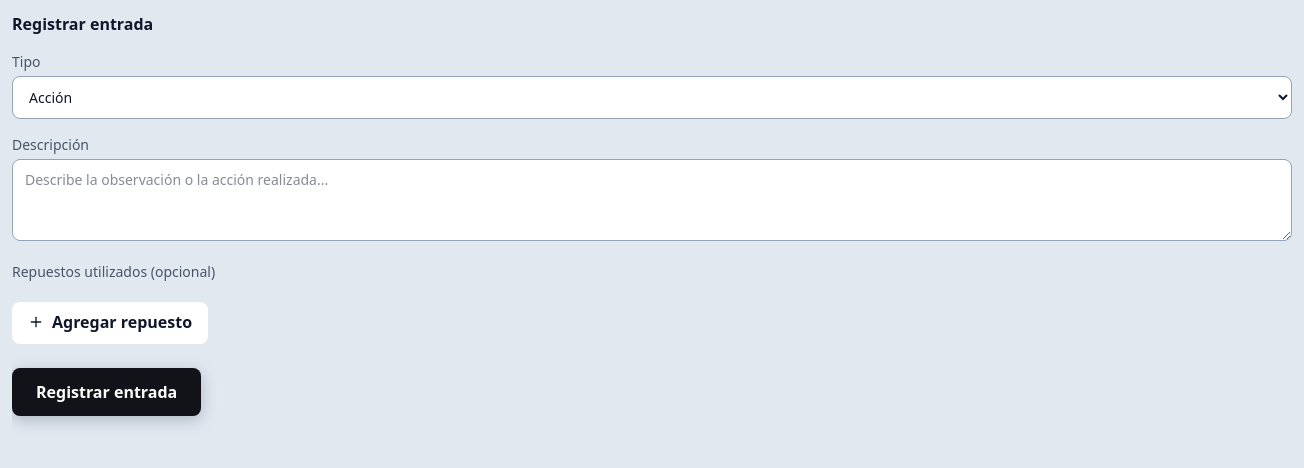
Test: BitacoraForm › no envía si la descripción está vacía
Click the button "Registrar entrada".
click(107, 392)  # box [12,368,201,416]
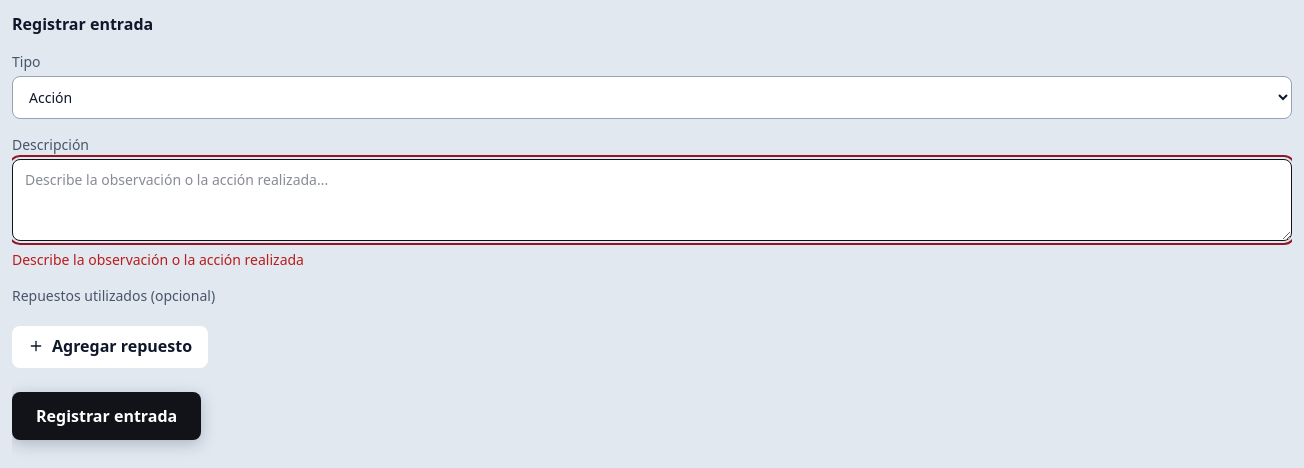
Result: the text "Describe la observación o la acción realizada" is shown at [12,250,304,269]
